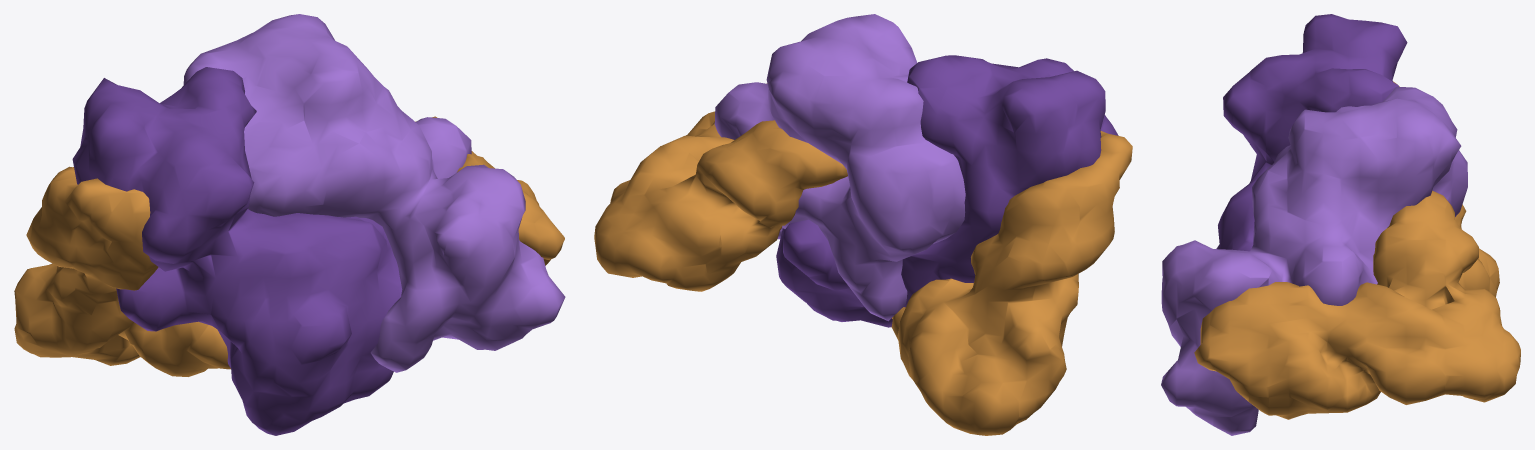
File: tetramer1ASY_1_0.dae
3 views of the same model, side by side, from view 1: azimuth 30°, elevation 25°; view 2: azimuth 150°, elevation 25°; view 3: azimuth 270°, elevation 25° (orthographic). The views are drawn at different scales.
Visible parts, largest first — view 1: CoarseMS_1asyBioSimp_SelectionR, CoarseMS_1asyBioSimp_SelectionA, CoarseMS_1asyBioSimp_SelectionS, CoarseMS_1asyBioSimp_SelectionB; view 2: CoarseMS_1asyBioSimp_SelectionA, CoarseMS_1asyBioSimp_SelectionS, CoarseMS_1asyBioSimp_SelectionR, CoarseMS_1asyBioSimp_SelectionB; view 3: CoarseMS_1asyBioSimp_SelectionB, CoarseMS_1asyBioSimp_SelectionA, CoarseMS_1asyBioSimp_SelectionR, CoarseMS_1asyBioSimp_SelectionS.
Boxes of the visible parts, x1,y1,x2,y2 form: CoarseMS_1asyBioSimp_SelectionR: (72, 67, 402, 435); CoarseMS_1asyBioSimp_SelectionA: (183, 14, 565, 372); CoarseMS_1asyBioSimp_SelectionS: (14, 166, 230, 376); CoarseMS_1asyBioSimp_SelectionB: (415, 116, 564, 265); CoarseMS_1asyBioSimp_SelectionA: (714, 14, 965, 321); CoarseMS_1asyBioSimp_SelectionS: (891, 131, 1132, 435); CoarseMS_1asyBioSimp_SelectionR: (776, 55, 1118, 327); CoarseMS_1asyBioSimp_SelectionB: (594, 83, 847, 291); CoarseMS_1asyBioSimp_SelectionB: (1194, 190, 1520, 419); CoarseMS_1asyBioSimp_SelectionA: (1161, 86, 1467, 435); CoarseMS_1asyBioSimp_SelectionR: (1216, 14, 1407, 251); CoarseMS_1asyBioSimp_SelectionS: (1393, 81, 1499, 297).
Size of the model in its own units: 121 by 84.12 by 85.96.
